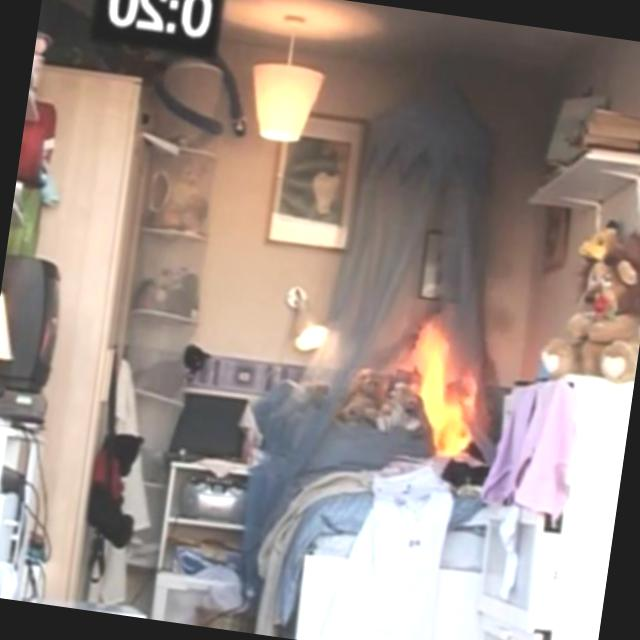fire: (371, 311, 516, 478)
